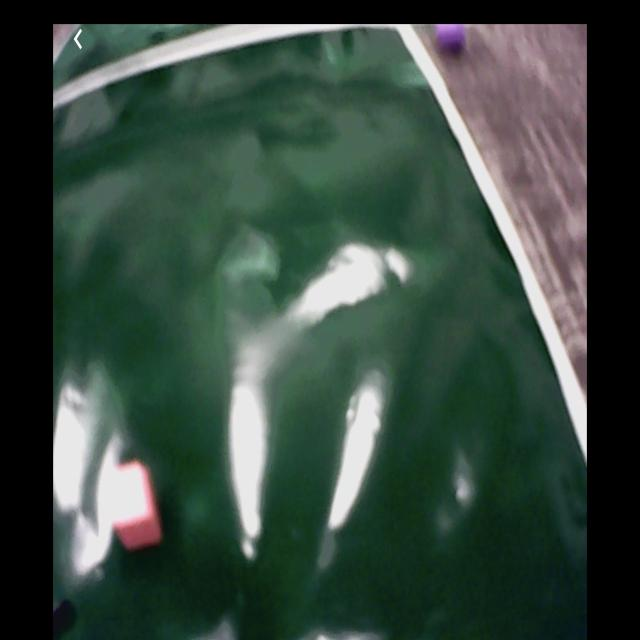ball: (435, 26, 466, 57)
